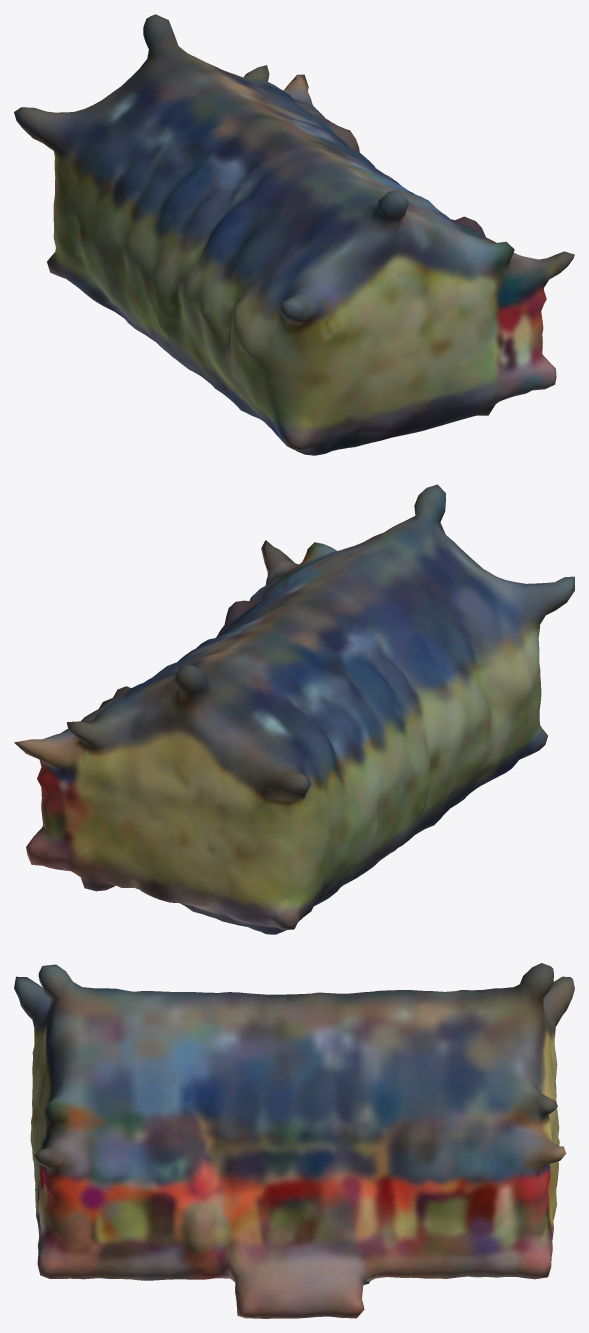
File: example.glb
3 renders of one model, top to bottom at view 1: azimuth 30°, elevation 25°; view 2: azimuth 150°, elevation 25°; view 3: azimuth 270°, elevation 25°, orthographic. The views are drawn at different scales.
Parts seen in each view (by area): view 1: Mesh1; view 2: Mesh1; view 3: Mesh1.
Part boxes in pixels (x1,y1,x2,y2): Mesh1: (14,14,574,455); Mesh1: (14,484,574,934); Mesh1: (14,963,574,1318).
Size of the model in its own units: 0.8264 by 0.6604 by 1.2.
Materials: 1 (1 with a texture image).
